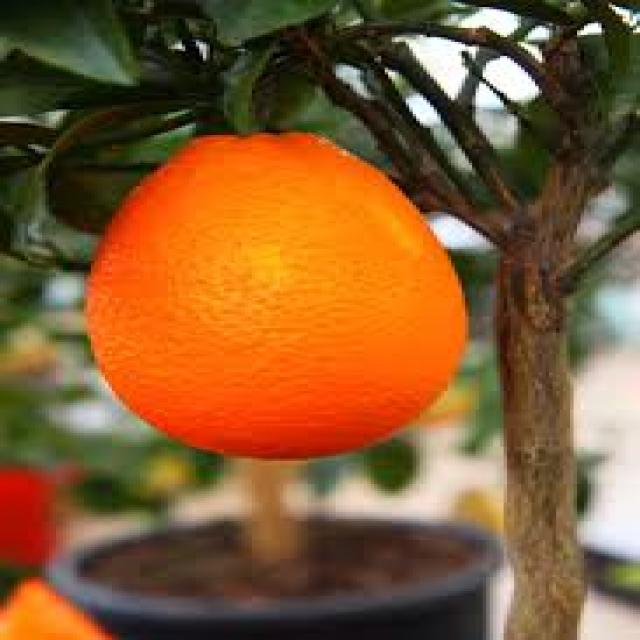organic waste: (81, 123, 465, 461)
